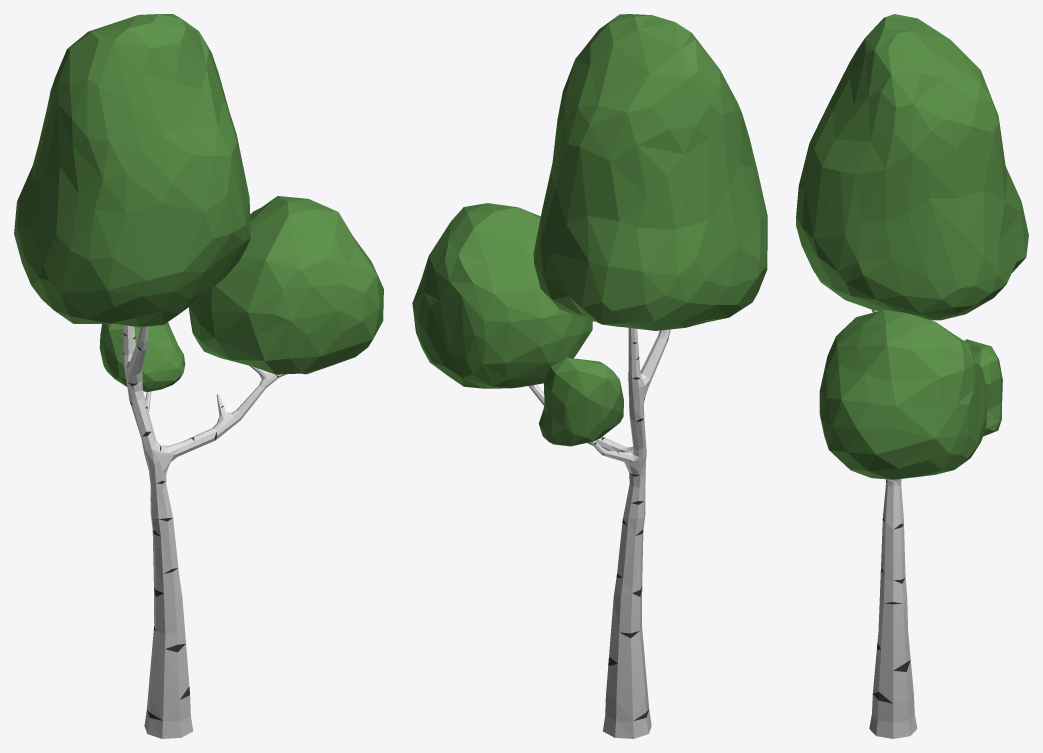
File: Tree_02.fbx
The picture shows the model from 3 angles, left to right: view 1: azimuth 30°, elevation 25°; view 2: azimuth 150°, elevation 25°; view 3: azimuth 270°, elevation 25°; orthographic projection. The views are drawn at different scales.
Visible parts, largest first — view 1: Tree_02_LOD0; view 2: Tree_02_LOD0; view 3: Tree_02_LOD0.
Part boxes in pixels (left/top/right/bottom): Tree_02_LOD0: left=14, top=14, right=383, bottom=738; Tree_02_LOD0: left=412, top=14, right=767, bottom=738; Tree_02_LOD0: left=796, top=14, right=1028, bottom=738.
Size of what is drawn, in the model's own units: 390 by 798 by 244.
